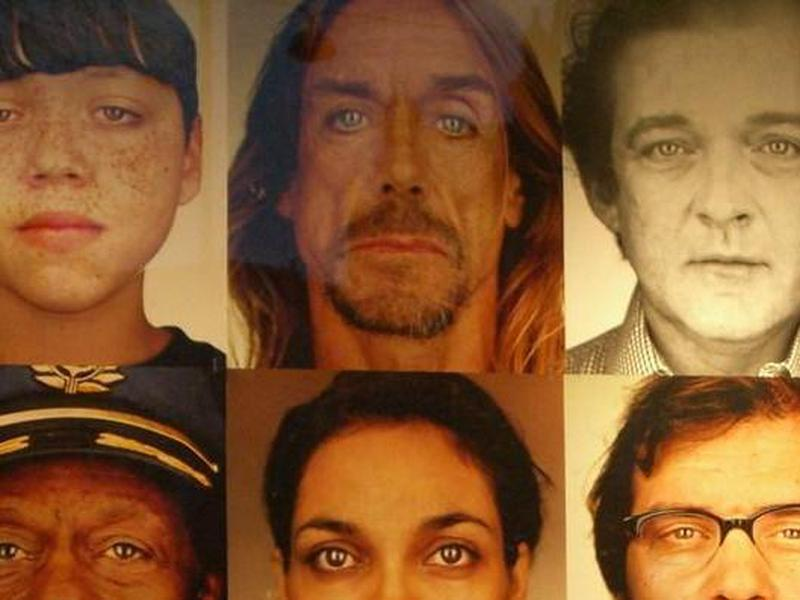person: (232, 2, 555, 367), (562, 4, 800, 373), (1, 1, 225, 366), (258, 371, 547, 600), (1, 371, 227, 600), (589, 378, 798, 600)
